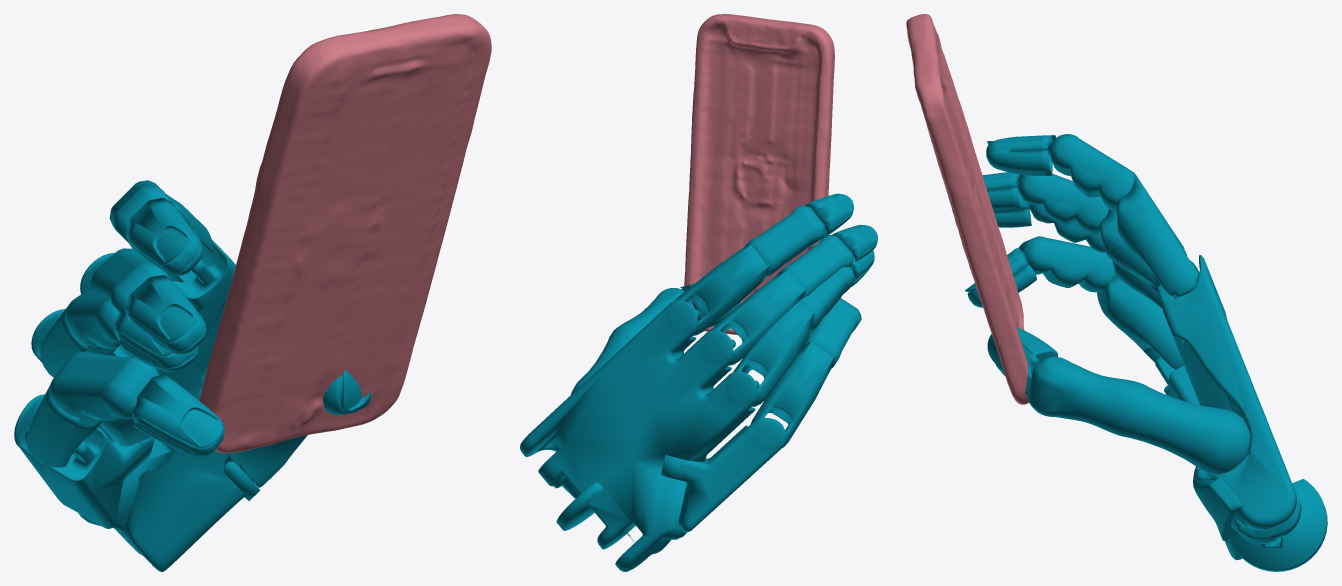
The picture shows the model from 3 angles, left to right: view 1: azimuth 30°, elevation 25°; view 2: azimuth 150°, elevation 25°; view 3: azimuth 270°, elevation 25°; orthographic projection. The views are drawn at different scales.
Visible parts, largest first — view 1: world; view 2: world; view 3: world.
Part boxes in pixels (left/top/right/bottom): world: left=14, top=14, right=491, bottom=571; world: left=520, top=14, right=877, bottom=571; world: left=906, top=14, right=1327, bottom=571.
Bounding box in the file's own units: 0.1324 × 0.2287 × 0.1638.
